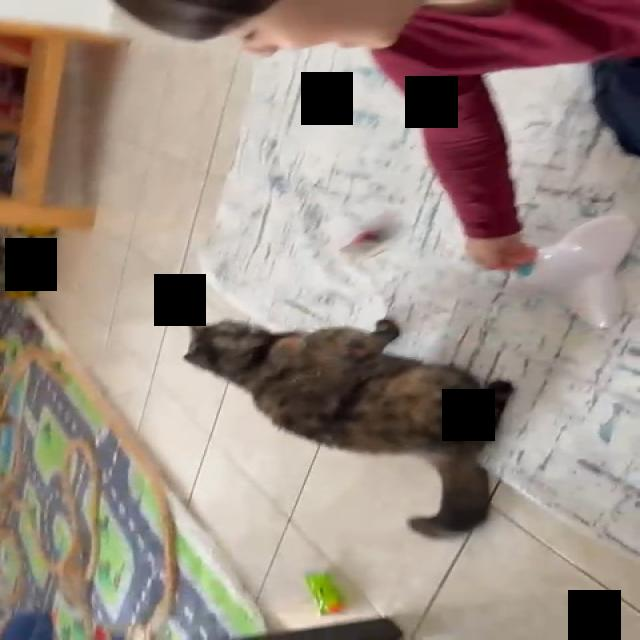authorized: (181, 316, 516, 538)
